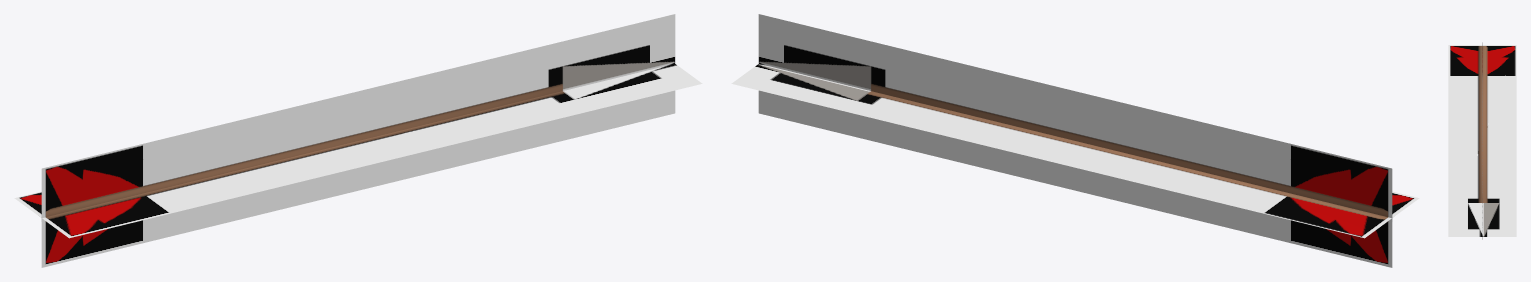
The model's file is Arrow.FBX.
3 views of the same model, side by side, from view 1: azimuth 30°, elevation 25°; view 2: azimuth 150°, elevation 25°; view 3: azimuth 270°, elevation 25° (orthographic). The views are drawn at different scales.
Parts seen in each view (by area): view 1: ArrowPlane2, ArrowPlane1; view 2: ArrowPlane2, ArrowPlane1; view 3: ArrowPlane1, ArrowPlane2.
Boxes of the visible parts, x1,y1,x2,y2 form: ArrowPlane2: (41, 14, 675, 267); ArrowPlane1: (14, 64, 702, 238); ArrowPlane2: (758, 14, 1392, 267); ArrowPlane1: (731, 64, 1419, 238); ArrowPlane1: (1448, 45, 1516, 236); ArrowPlane2: (1482, 42, 1482, 239).
Bounding box in the file's own units: 80 × 12 × 12.
